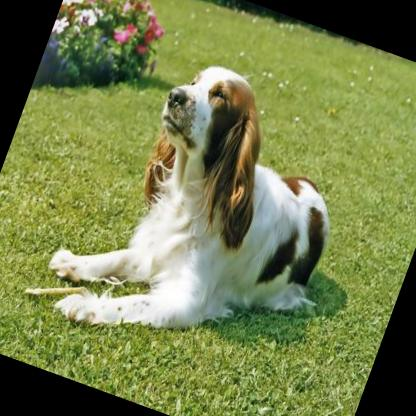Welsh_springer_spaniel: (33, 26, 384, 392)
